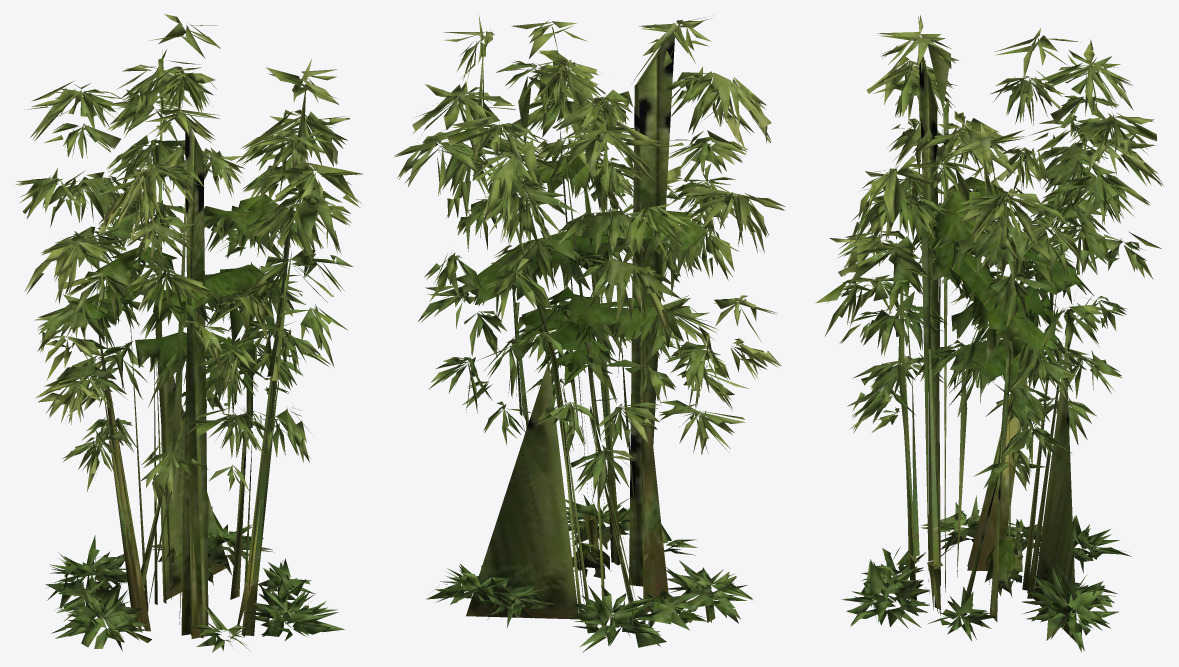
File: bamboo.glb
The picture shows the model from 3 angles, left to right: view 1: azimuth 30°, elevation 25°; view 2: azimuth 150°, elevation 25°; view 3: azimuth 270°, elevation 25°; orthographic projection. The views are drawn at different scales.
Parts seen in each view (by area): view 1: tripo_node_c80a64d5; view 2: tripo_node_c80a64d5; view 3: tripo_node_c80a64d5.
Part boxes in pixels (box(x1,y1,x2,y2)): tripo_node_c80a64d5: box(15, 14, 362, 652); tripo_node_c80a64d5: box(394, 15, 785, 652); tripo_node_c80a64d5: box(815, 15, 1163, 652).
Size of the model in its own units: 0.5997 by 1 by 0.5493.
1 material, 1 textured.
